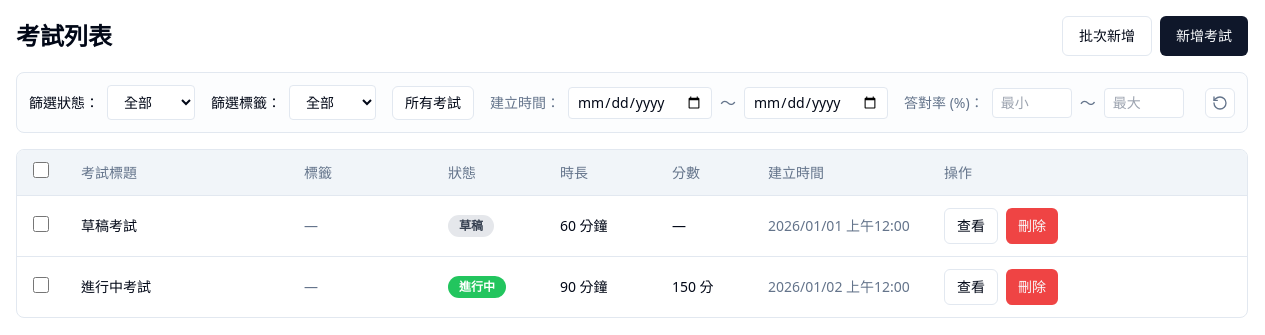
Scenario: ExamListPage › clicking 重設篩選 clears every filter and refetches with empty params
Check: the text "草稿考試" is shown, box x1=65 y1=196 x2=288 y2=256
// Set several filters
Type "2026-05-05" into the date field with id "created-start" at {"x": 640, "y": 102}, box x1=568 y1=86 x2=712 y2=118
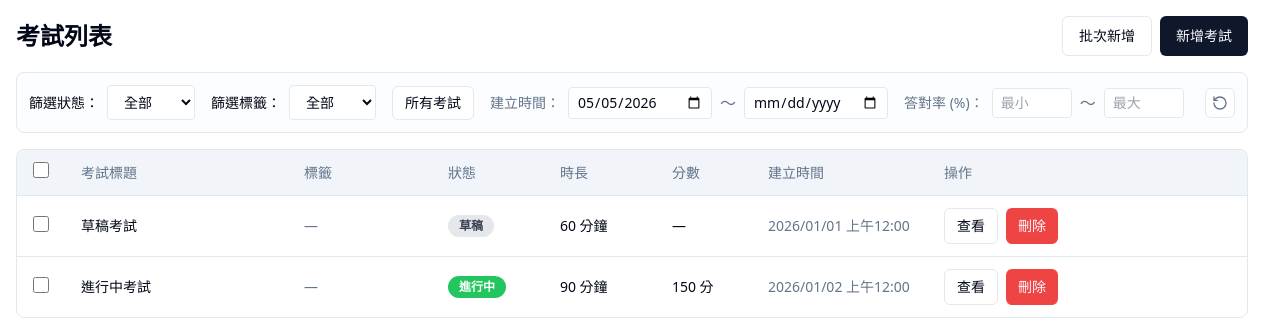
Type "50" into the number field labelled "答對率 (%)：" at {"x": 1032, "y": 102}, box x1=992 y1=88 x2=1072 y2=118
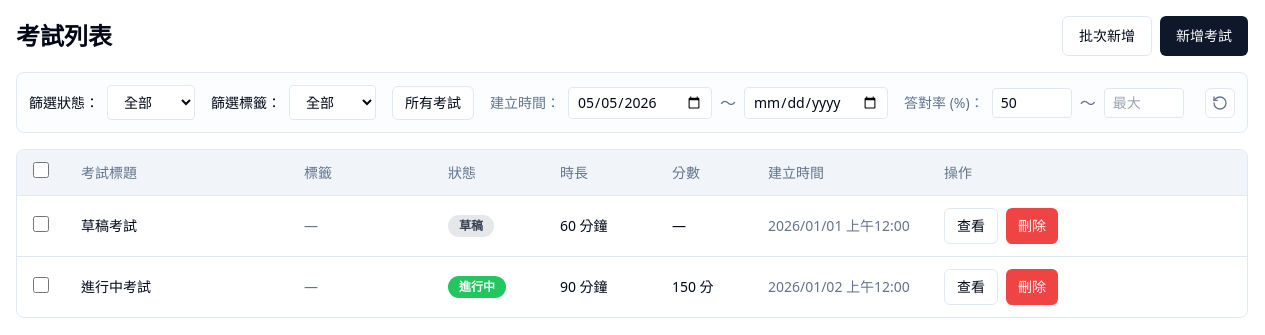
Select "TagFE" in the dropdown with id "tag-filter" at {"x": 332, "y": 102}, box x1=289 y1=85 x2=376 y2=120
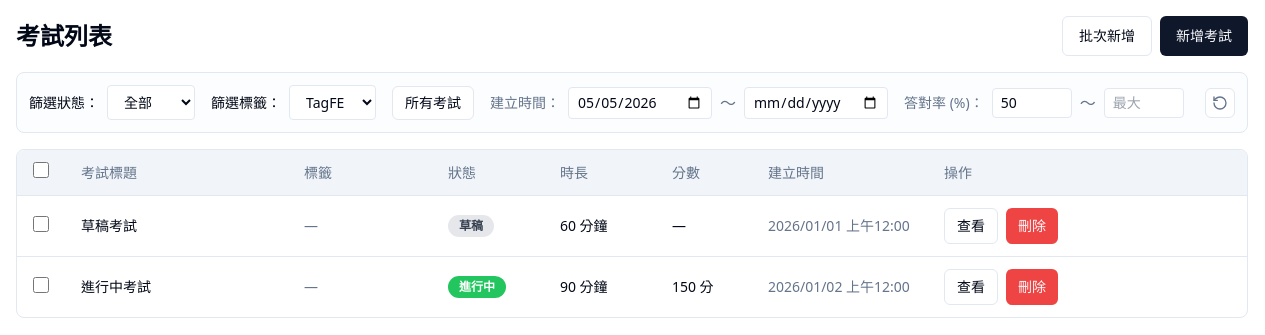
Click the button with id "mine-only-toggle" at {"x": 433, "y": 102}, box x1=392 y1=86 x2=474 y2=120
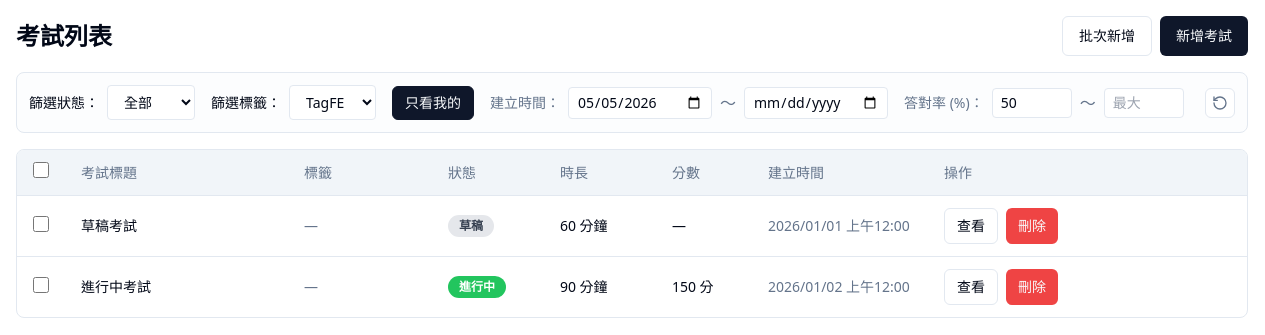
// Click reset
Click the button with id "reset-filters" at {"x": 1220, "y": 102}, box x1=1205 y1=88 x2=1235 y2=118
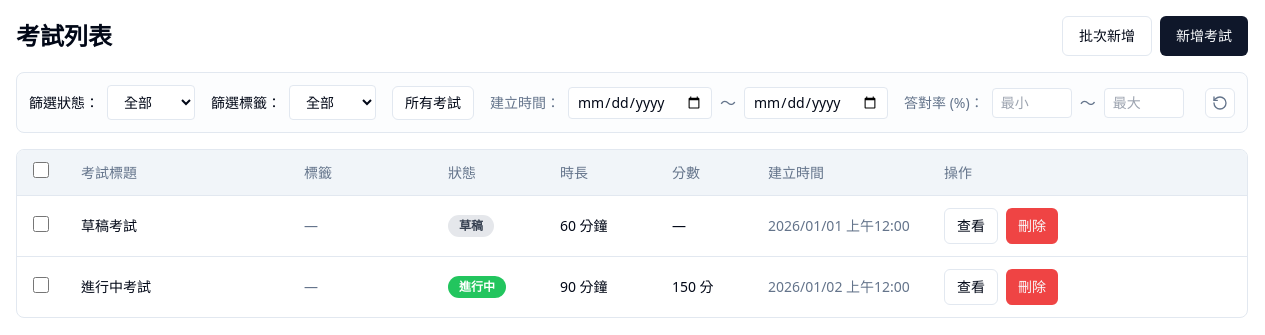
Check: the date field with id "created-start" is empty, box x1=568 y1=86 x2=712 y2=118
Check: the number field labelled "答對率 (%)：" is empty, box x1=992 y1=88 x2=1072 y2=118
